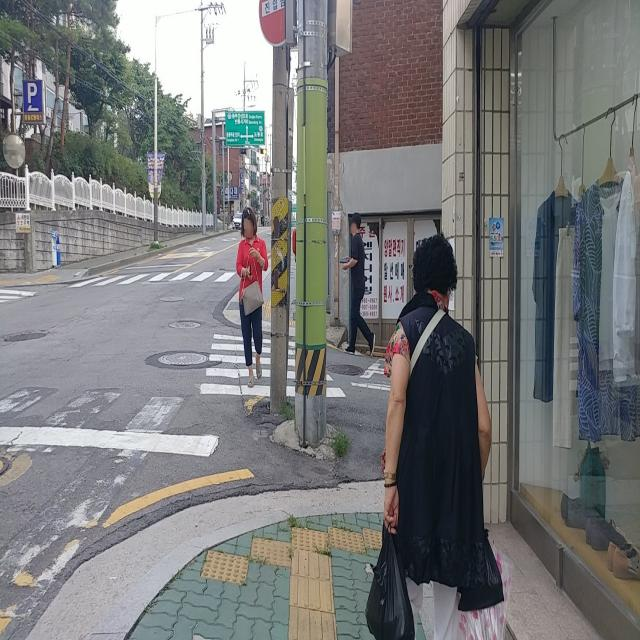횡단보도: (199, 332, 347, 399), (89, 268, 230, 284)
